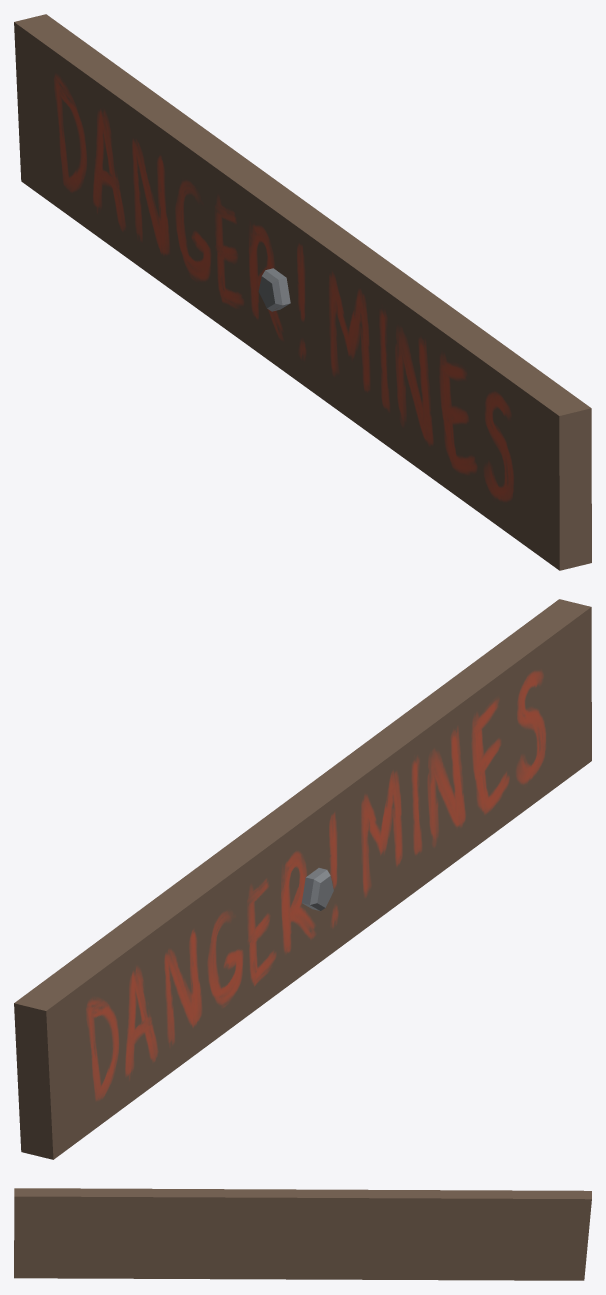
The model's file is Sign_SingleBoard.fbx.
3 renders of one model, top to bottom at view 1: azimuth 30°, elevation 25°; view 2: azimuth 150°, elevation 25°; view 3: azimuth 270°, elevation 25°, orthographic. The views are drawn at different scales.
Parts seen in each view (by area): view 1: Single_Single; view 2: Single_Single; view 3: Single_Single.
Part boxes in pixels (x1,y1,x2,y2): Single_Single: (14,14,591,570); Single_Single: (14,599,591,1159); Single_Single: (14,1188,591,1280).
Bounding box in the file's own units: 3.85 × 12.88 × 80.06.
